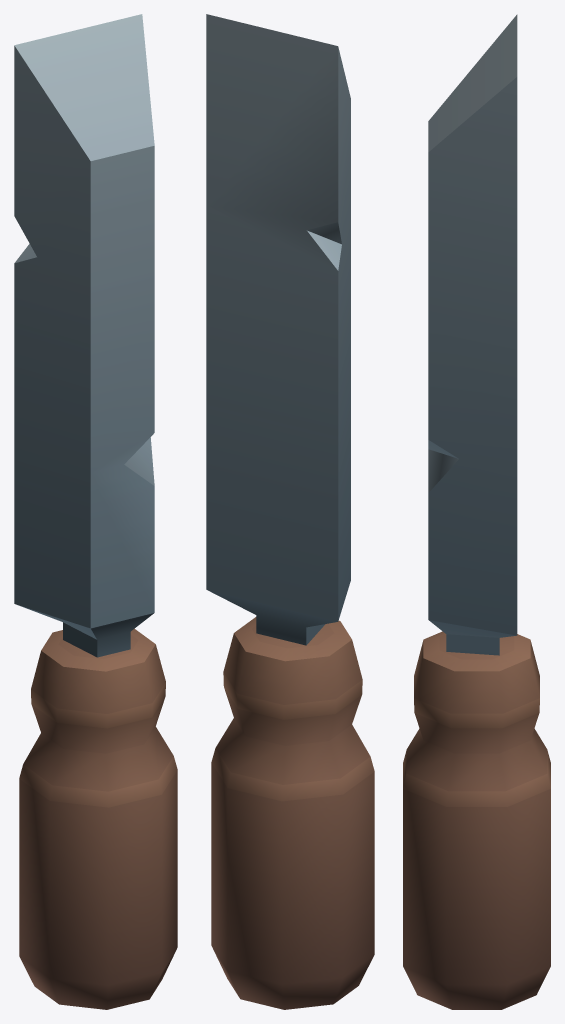
Rendered from chisel.glb.
3 views of the same model, side by side, from view 1: azimuth 30°, elevation 25°; view 2: azimuth 150°, elevation 25°; view 3: azimuth 270°, elevation 25° (orthographic). The views are drawn at different scales.
Parts seen in each view (by area): view 1: chisel; view 2: chisel; view 3: chisel.
Boxes of the visible parts, x1,y1,x2,y2 form: chisel: (14, 14, 177, 1009); chisel: (206, 14, 374, 1009); chisel: (403, 14, 550, 1009).
Bounding box in the file's own units: 0.1514 × 1.08 × 0.1513.
1 material, 1 textured.
